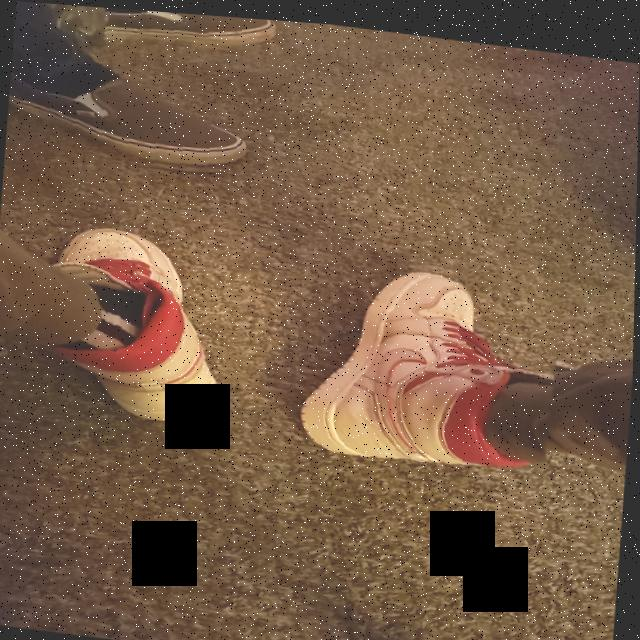shoe: (291, 236, 566, 480), (36, 212, 254, 440), (6, 52, 260, 182), (87, 5, 278, 54)
